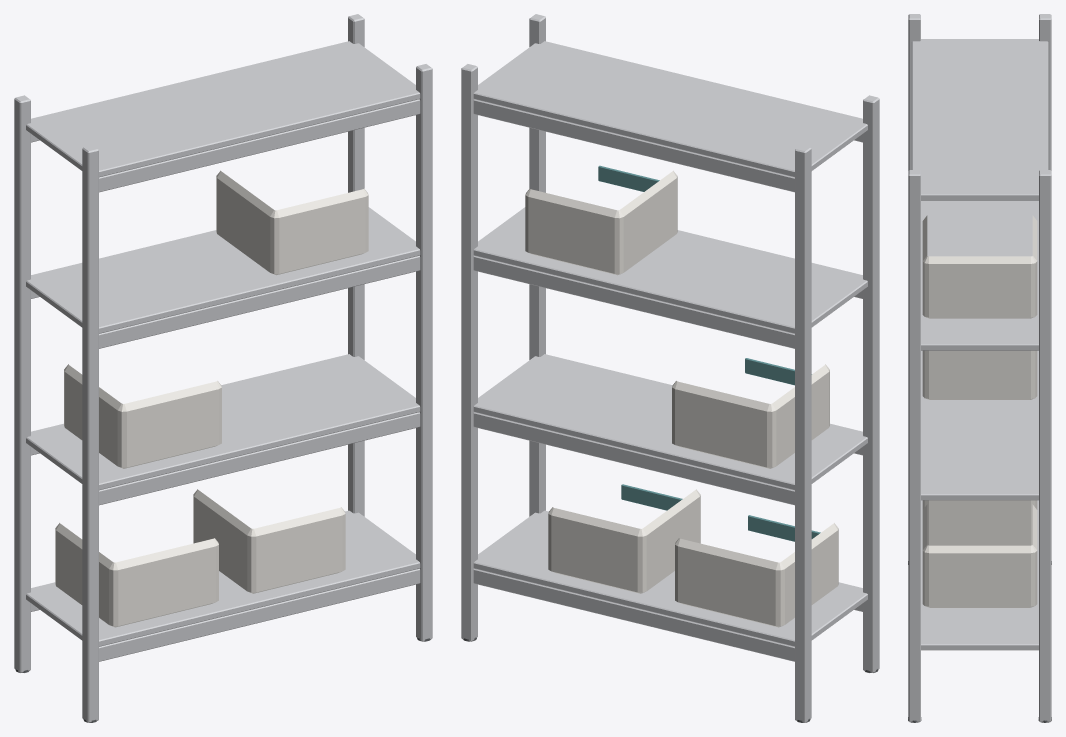
The model's file is hotel-and-resort-operations-service-corridor-shelving-d94eebb4__25893.glb.
The picture shows the model from 3 angles, left to right: view 1: azimuth 30°, elevation 25°; view 2: azimuth 150°, elevation 25°; view 3: azimuth 270°, elevation 25°; orthographic projection. The views are drawn at different scales.
Visible parts, largest first — view 1: service-corridor-shelving; view 2: service-corridor-shelving; view 3: service-corridor-shelving.
Boxes of the visible parts, bbox=[...] form: service-corridor-shelving: bbox=[14, 14, 432, 722]; service-corridor-shelving: bbox=[461, 14, 879, 722]; service-corridor-shelving: bbox=[908, 14, 1051, 722].
Bounding box in the file's own units: 1.2 × 1.9 × 0.4518.
